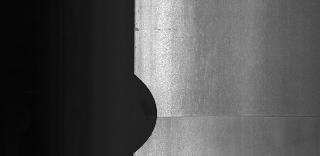welding line: (156, 114, 320, 126)
